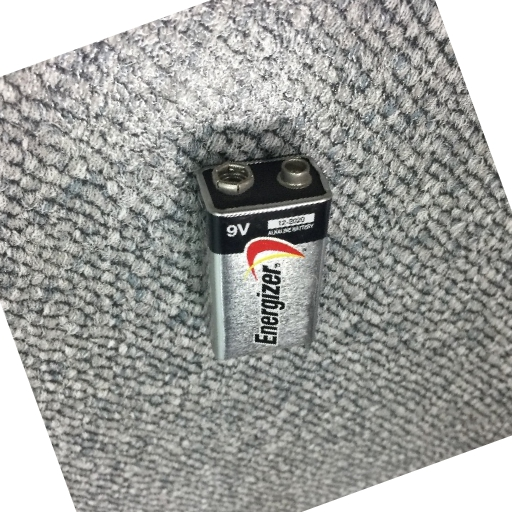Battery_3: (177, 131, 351, 378)
